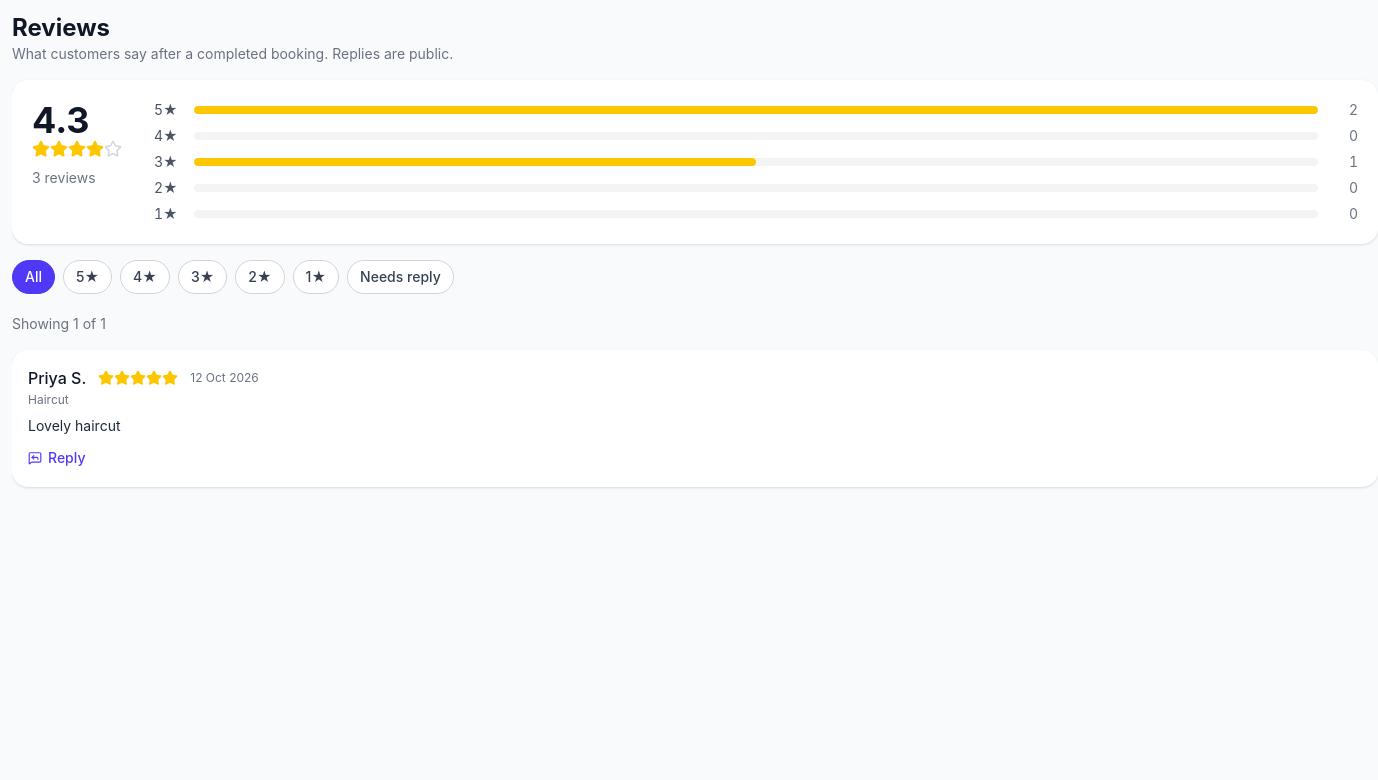
Test: ReviewsPage › posts and edits a reply inline, with a confirmation
Step 1. Click the button with aria-label "Reply to Priya S." → coordinates (57, 458), box [28,448,85,468]
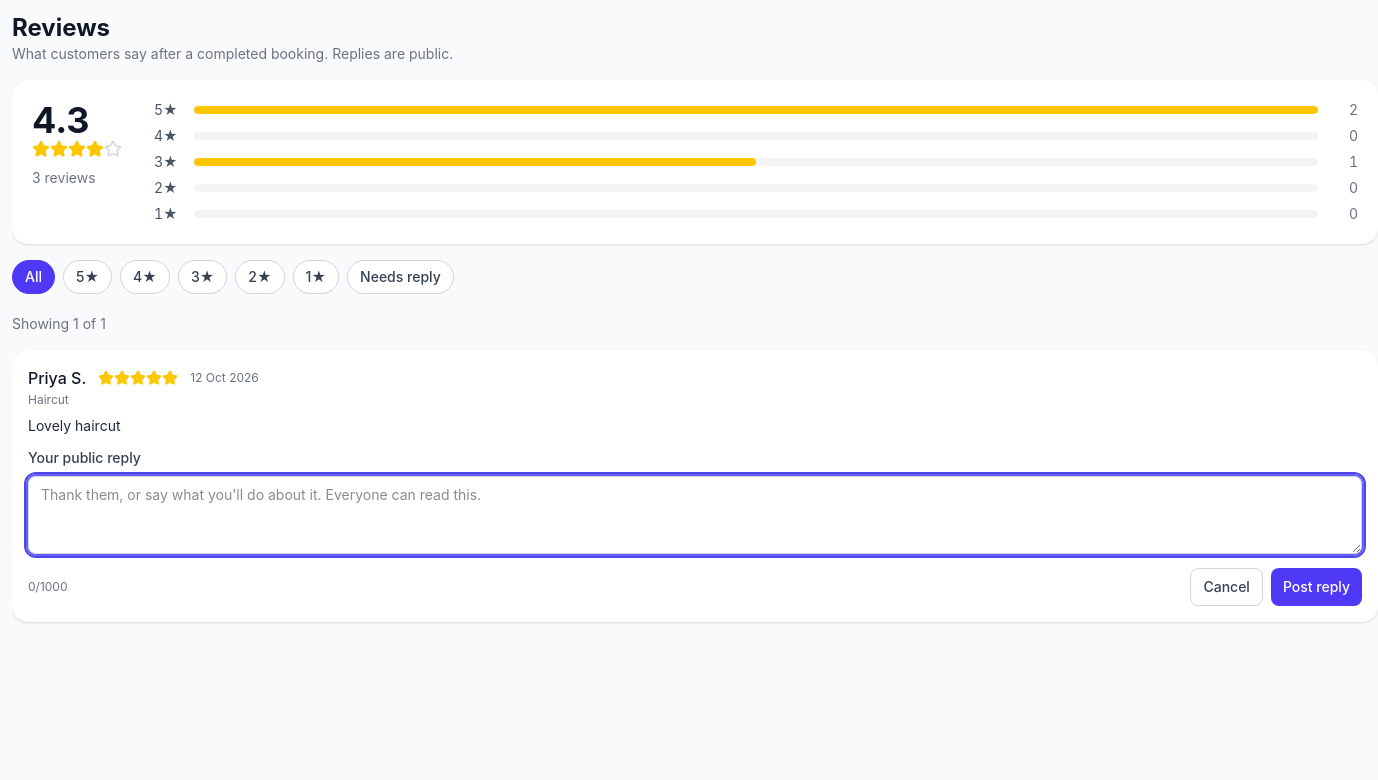
Step 2. Click the button "Post reply" → coordinates (1316, 587), box [1271,568,1362,606]
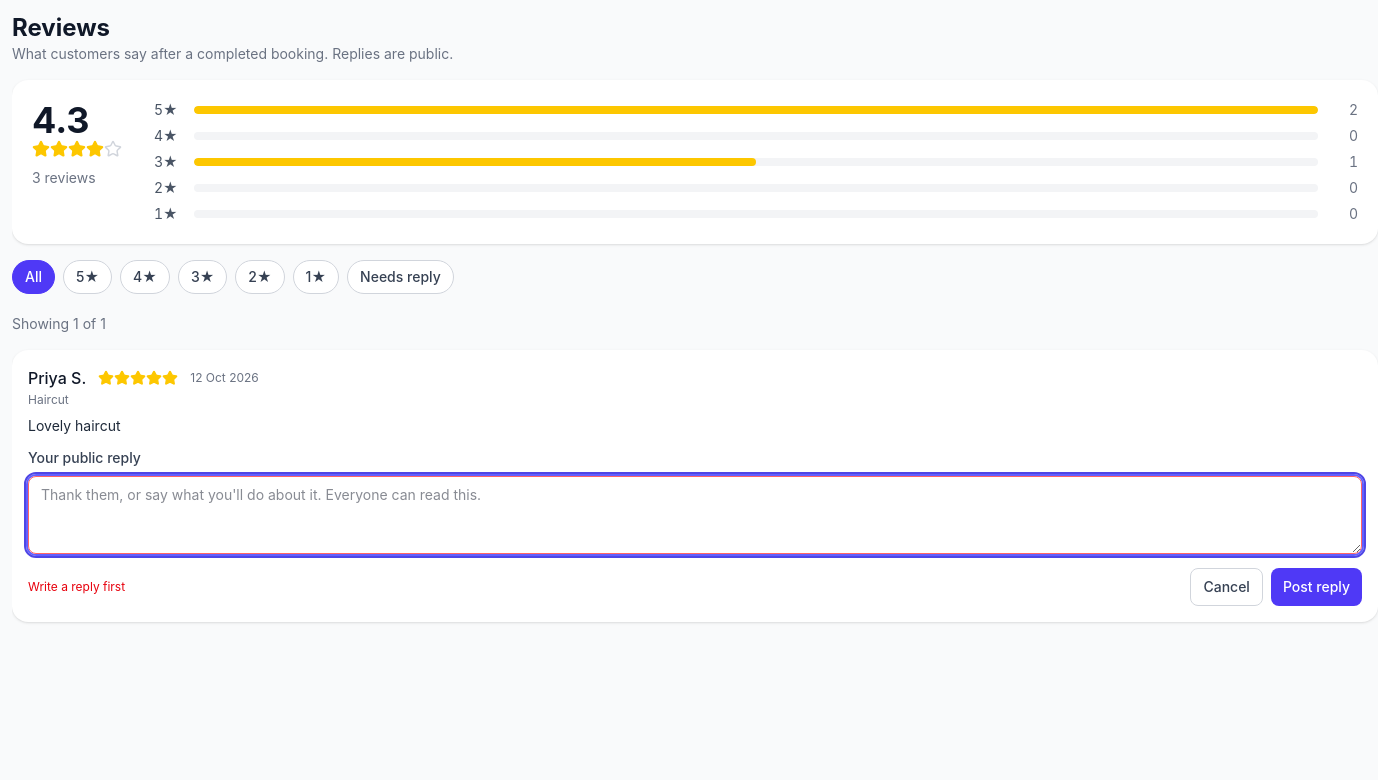
expect the text "Write a reply first" is shown: met, box [28,579,125,595]
Step 3. Replace the text in the text box labelled "Your public reply" with "Thank you, Priya!" → coordinates (695, 515), box [28,476,1362,554]
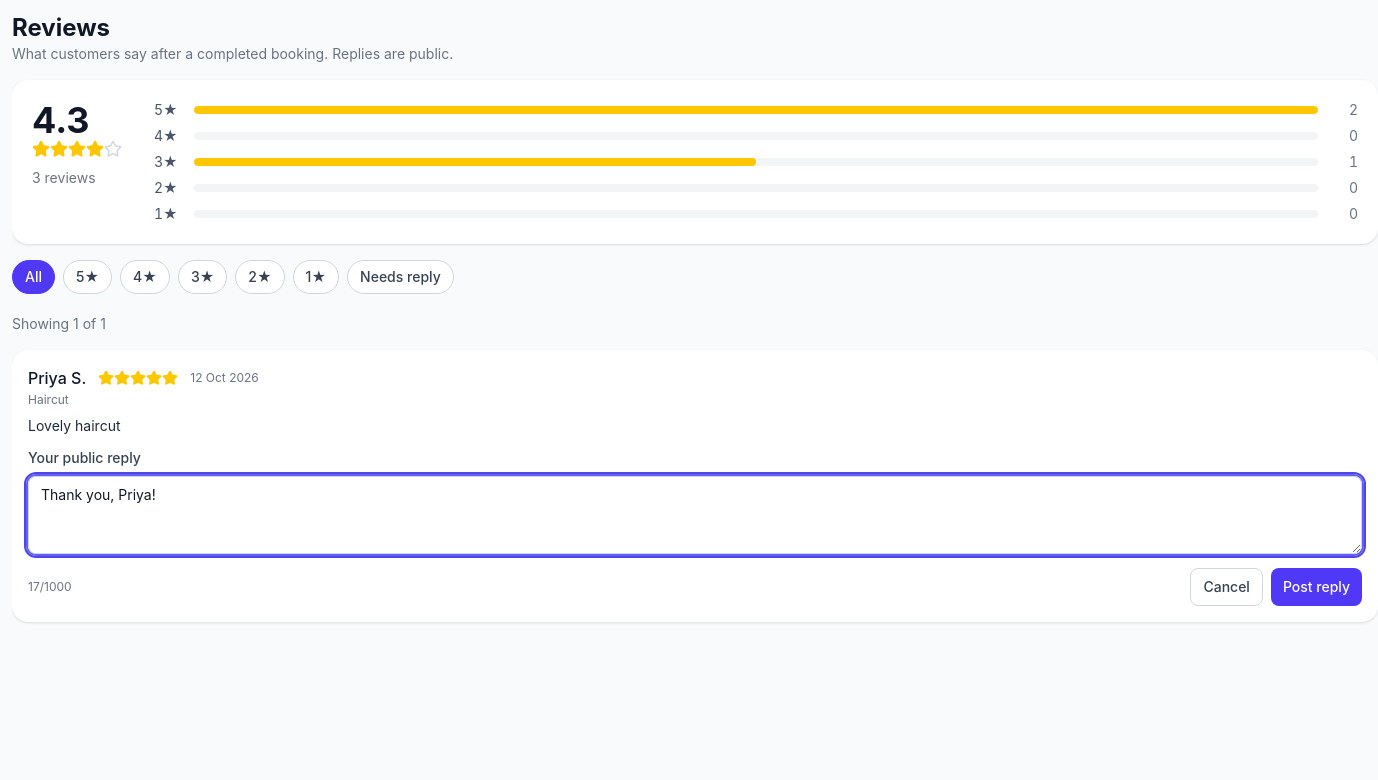
expect the text "17/1000" is shown: met, box [28,579,72,595]
Step 4. Click the button "Post reply" → coordinates (1316, 587), box [1271,568,1362,606]
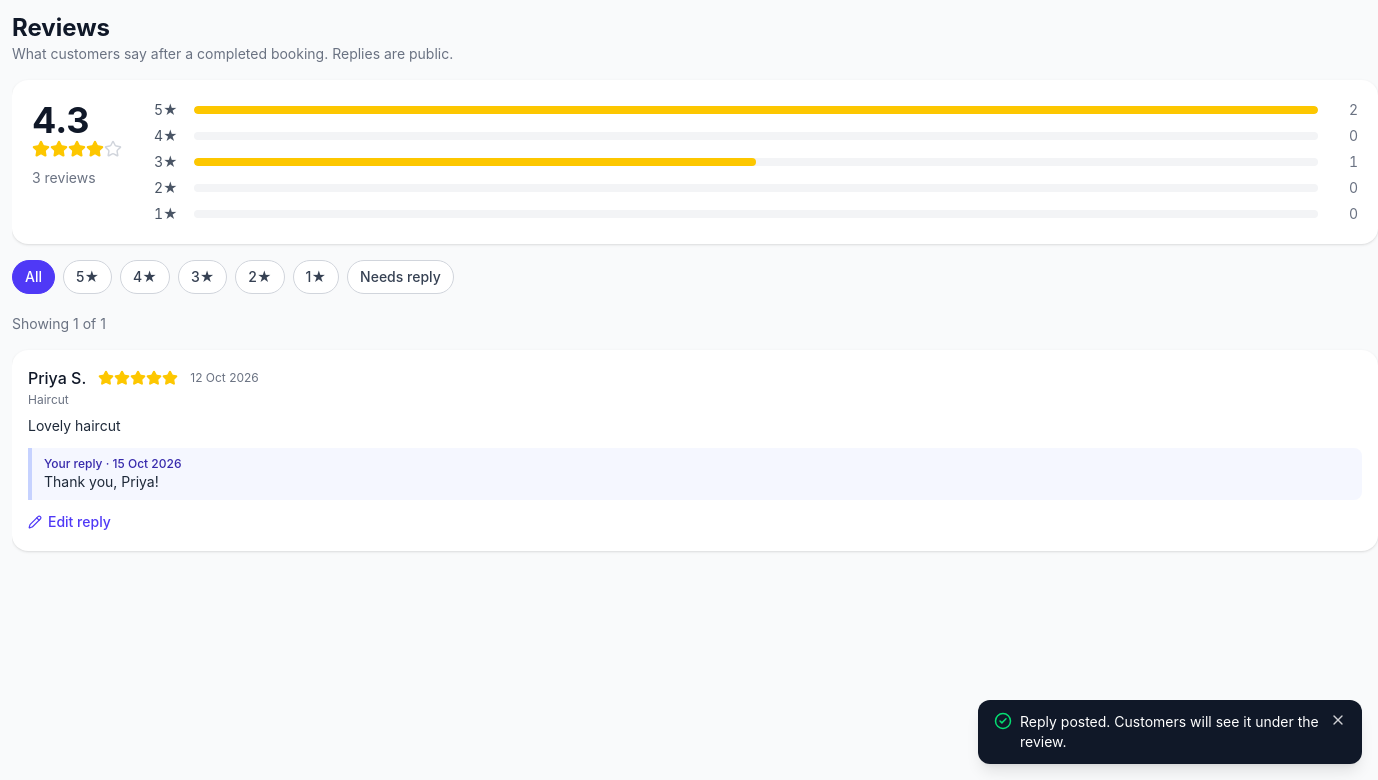
expect the text "Reply posted. Customers will see it under the review." is shown: met, box [1020,712,1322,752]
expect the text "Thank you, Priya!" is shown: met, box [44,473,159,490]
Step 5. Click the button with aria-label "Edit reply to Priya S." → coordinates (69, 522), box [28,512,111,532]
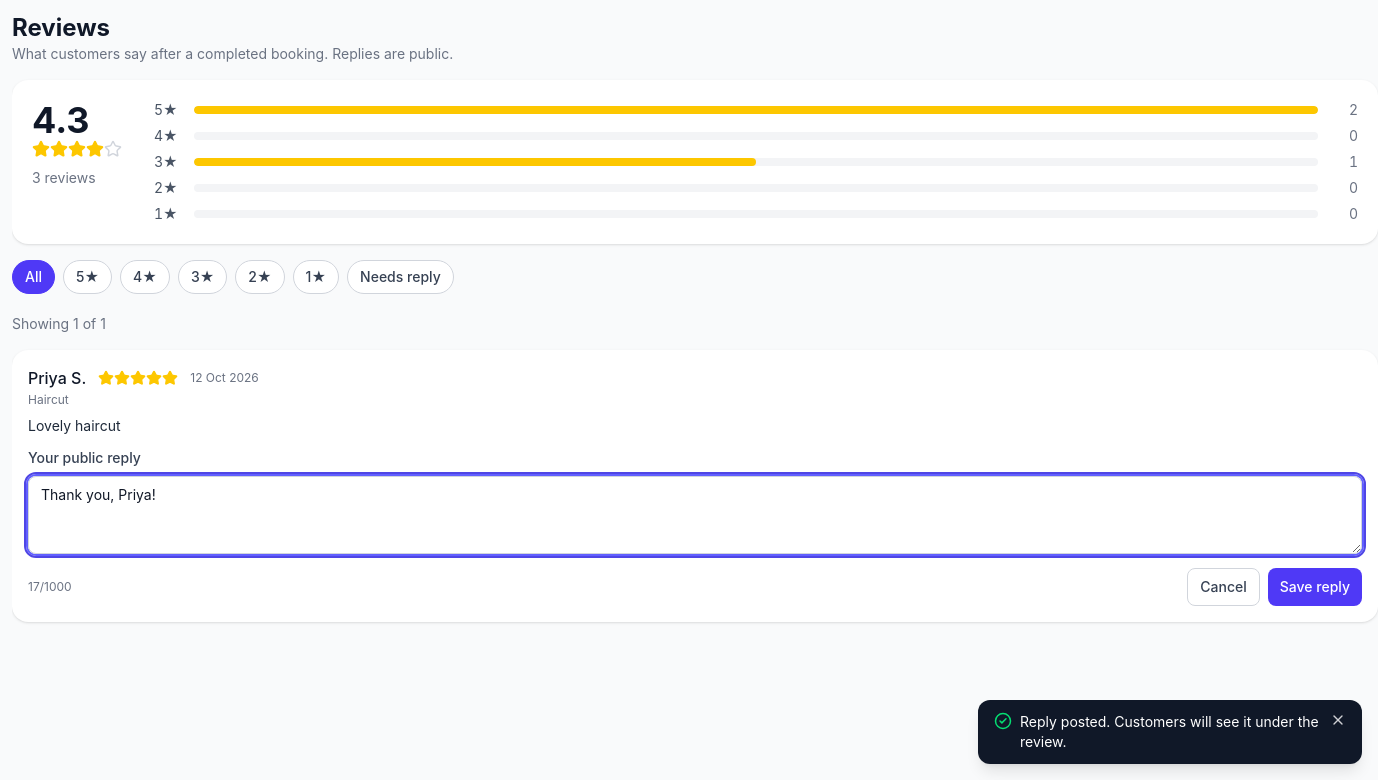
expect the text box labelled "Your public reply" holds "Thank you, Priya!": met
Step 6. Replace the text in the text box labelled "Your public reply" with "Thanks a lot!" → coordinates (695, 515), box [28,476,1362,554]
Step 7. Click the button "Save reply" → coordinates (1315, 587), box [1268,568,1362,606]
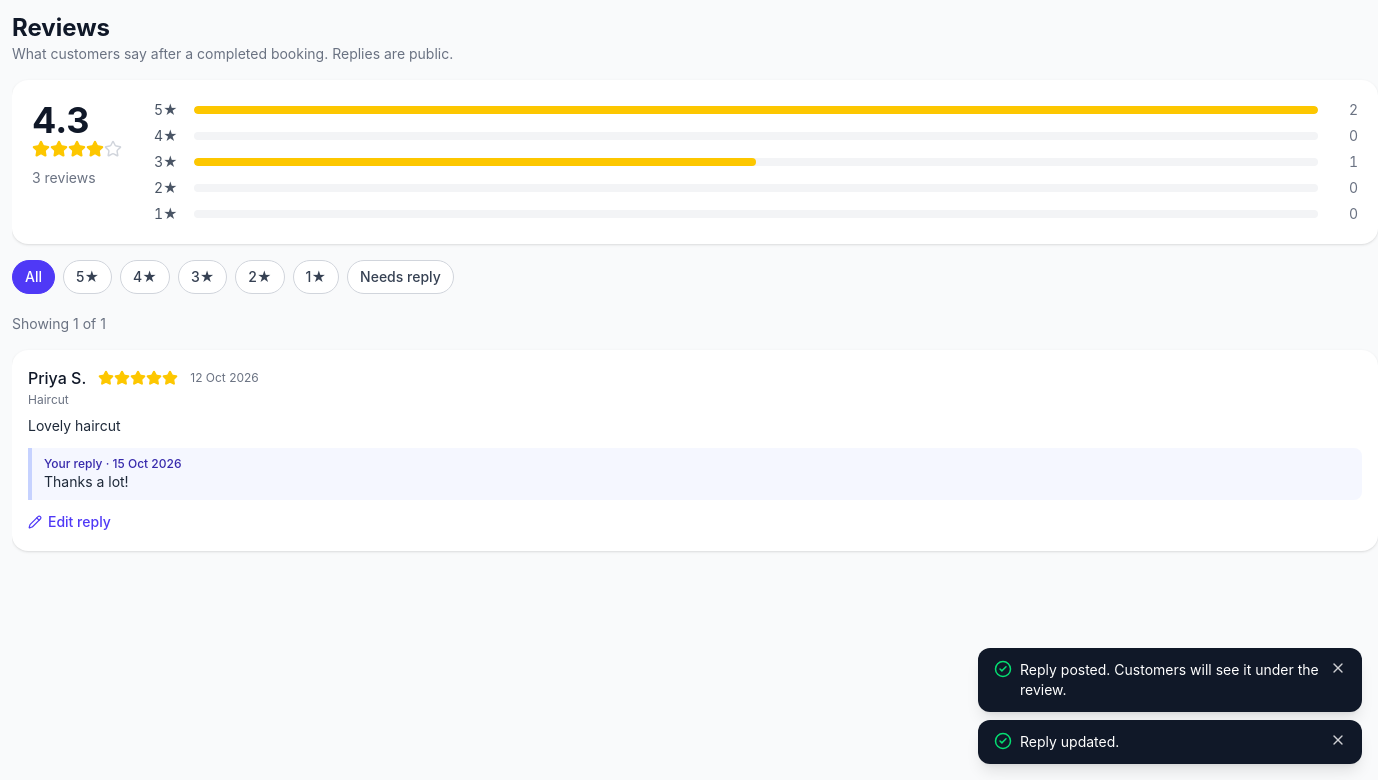
expect the text "Reply updated." is shown: met, box [1020,733,1119,750]
expect the text "Thanks a lot!" is shown: met, box [44,473,129,490]
